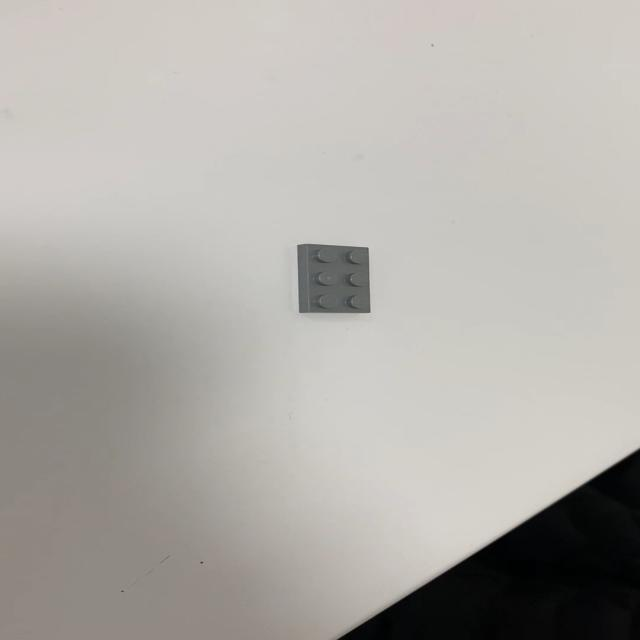C3x2x0: (296, 243, 371, 313)
